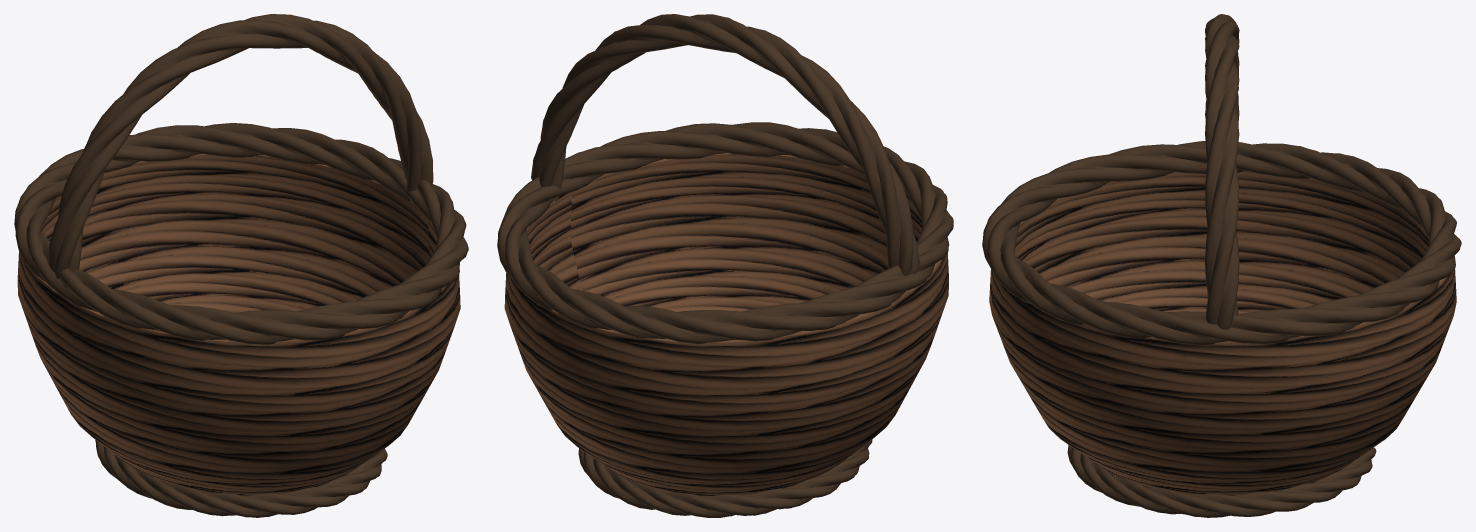
File: basket.obj
3 views of the same model, side by side, from view 1: azimuth 30°, elevation 25°; view 2: azimuth 150°, elevation 25°; view 3: azimuth 270°, elevation 25° (orthographic). The views are drawn at different scales.
Parts seen in each view (by area): view 1: group1 lz:Model_138_Wicker_Shopping_Cart_01, group1 lz:Model_138_Wicker_Shopping_Cart_03, group1 lz:Model_138_Wicker_Shopping_Cart_02, lz:Model_138_Wicker_Shopping_Cart_00 group1; view 2: group1 lz:Model_138_Wicker_Shopping_Cart_01, group1 lz:Model_138_Wicker_Shopping_Cart_03, group1 lz:Model_138_Wicker_Shopping_Cart_02, lz:Model_138_Wicker_Shopping_Cart_00 group1; view 3: group1 lz:Model_138_Wicker_Shopping_Cart_01, group1 lz:Model_138_Wicker_Shopping_Cart_03, group1 lz:Model_138_Wicker_Shopping_Cart_02, lz:Model_138_Wicker_Shopping_Cart_00 group1.
Part boxes in pixels (<box>): group1 lz:Model_138_Wicker_Shopping_Cart_01: <box>17,154,460,495</box>; group1 lz:Model_138_Wicker_Shopping_Cart_03: <box>14,123,468,344</box>; group1 lz:Model_138_Wicker_Shopping_Cart_02: <box>47,14,433,278</box>; lz:Model_138_Wicker_Shopping_Cart_00 group1: <box>95,440,387,517</box>; group1 lz:Model_138_Wicker_Shopping_Cart_01: <box>504,153,948,495</box>; group1 lz:Model_138_Wicker_Shopping_Cart_03: <box>497,122,953,344</box>; group1 lz:Model_138_Wicker_Shopping_Cart_02: <box>531,14,920,276</box>; lz:Model_138_Wicker_Shopping_Cart_00 group1: <box>578,439,872,517</box>; group1 lz:Model_138_Wicker_Shopping_Cart_01: <box>989,170,1456,495</box>; group1 lz:Model_138_Wicker_Shopping_Cart_03: <box>982,141,1461,345</box>; group1 lz:Model_138_Wicker_Shopping_Cart_02: <box>1205,14,1239,329</box>; lz:Model_138_Wicker_Shopping_Cart_00 group1: <box>1067,445,1376,517</box>.
Size of the model in its own units: 11.67 by 12.67 by 12.81.
2 materials, 1 textured.
